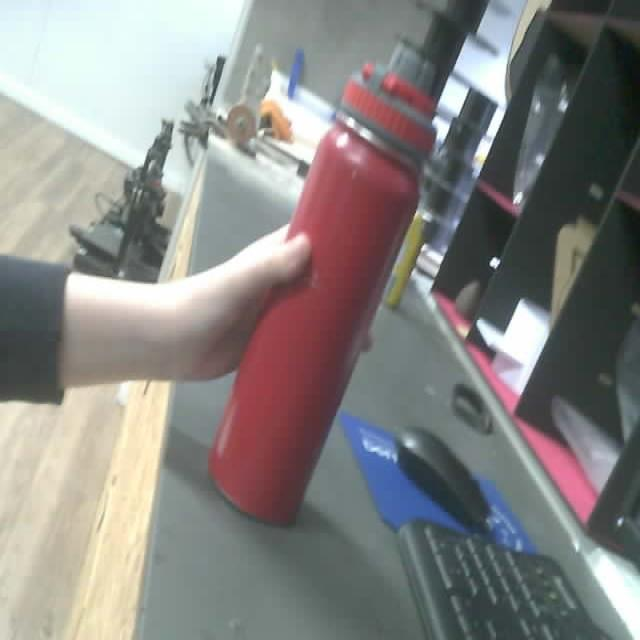water bottle: (204, 67, 439, 528)
